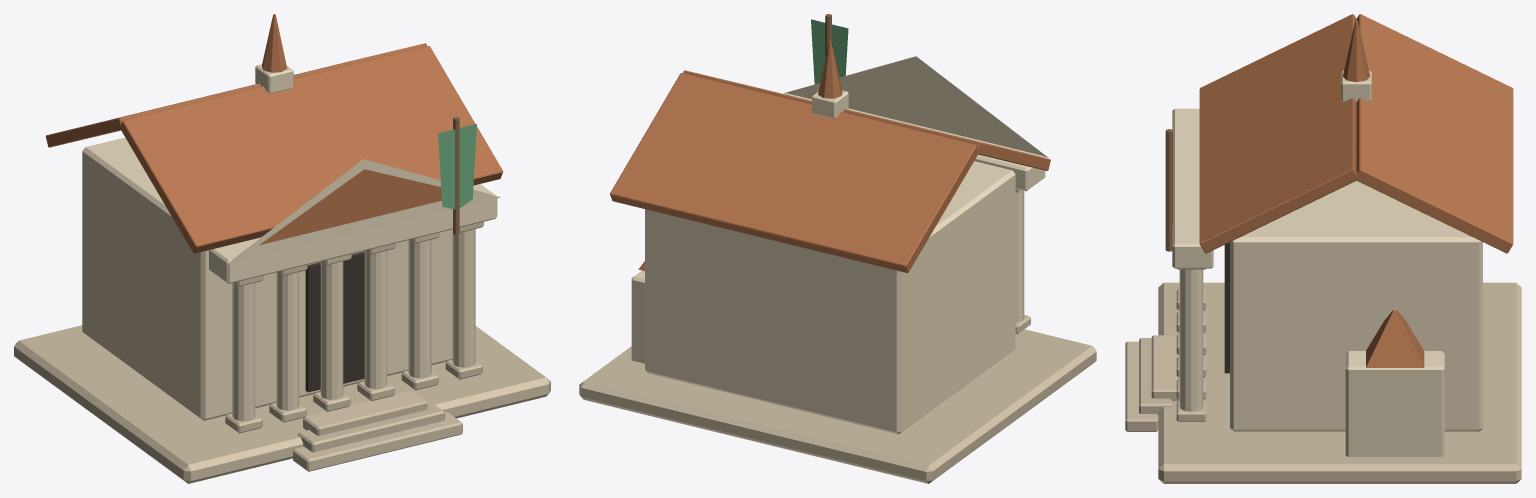
Rendered from edificio-center-e1-FOaB6S7e.glb.
3 renders of one model, left to right at view 1: azimuth 30°, elevation 25°; view 2: azimuth 150°, elevation 25°; view 3: azimuth 270°, elevation 25°, orthographic. The views are drawn at different scales.
Parts seen in each view (by area): view 1: centro_e1_mamposteria, centro_e1_cubierta_detalles, centro_e1_estructura, centro_e1_team_color; view 2: centro_e1_mamposteria, centro_e1_cubierta_detalles, centro_e1_estructura, centro_e1_team_color; view 3: centro_e1_mamposteria, centro_e1_cubierta_detalles, centro_e1_estructura.
Part boxes in pixels (x1,y1,x2,y2): centro_e1_mamposteria: (14,137,550,483); centro_e1_cubierta_detalles: (45,14,503,392); centro_e1_estructura: (209,64,500,433); centro_e1_team_color: (438,124,476,209); centro_e1_mamposteria: (579,161,1096,483); centro_e1_cubierta_detalles: (610,42,1050,272); centro_e1_estructura: (631,14,1048,363); centro_e1_team_color: (811,19,848,84); centro_e1_mamposteria: (1125,181,1521,483); centro_e1_cubierta_detalles: (1199,14,1513,373); centro_e1_estructura: (1165,70,1444,456).
Bounding box in the file's own units: 80 × 74.5 × 72.
